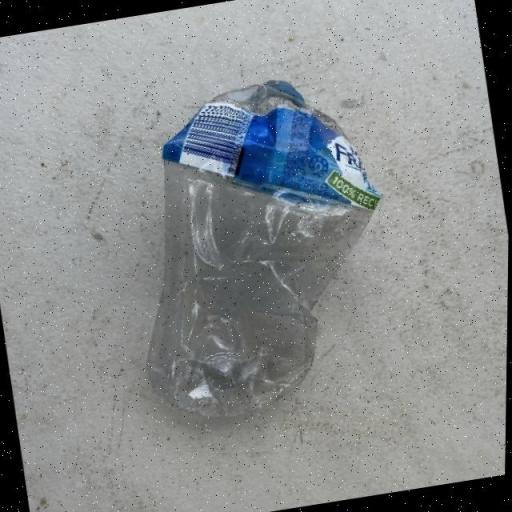plastic: (104, 64, 415, 429)
